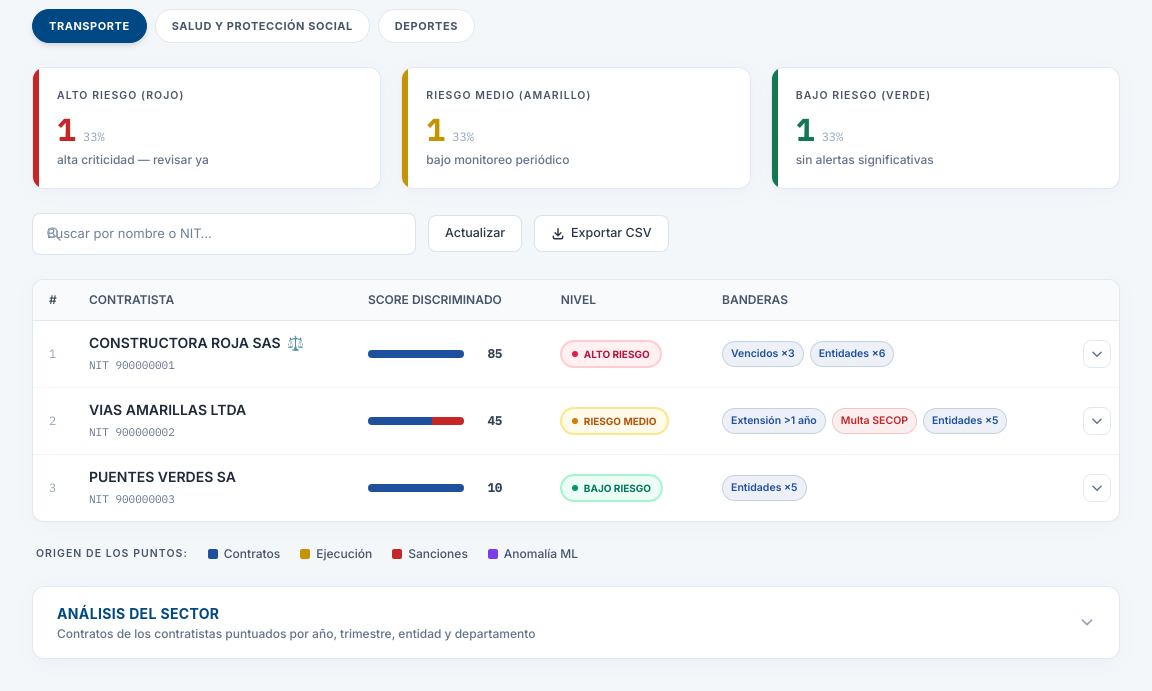
Test: AlertasPage: los scores de la API se muestran correctamente › el panel de análisis dimensional carga año, trimestre, entidades y departamentos
The image size is (1152, 691).
(page scrolled)
Check: the text "CONSTRUCTORA ROJA SAS" is shown, box [89,332,281,352]
Click the text "Análisis del sector": (138, 613) [57,604,219,622]
(page scrolled)
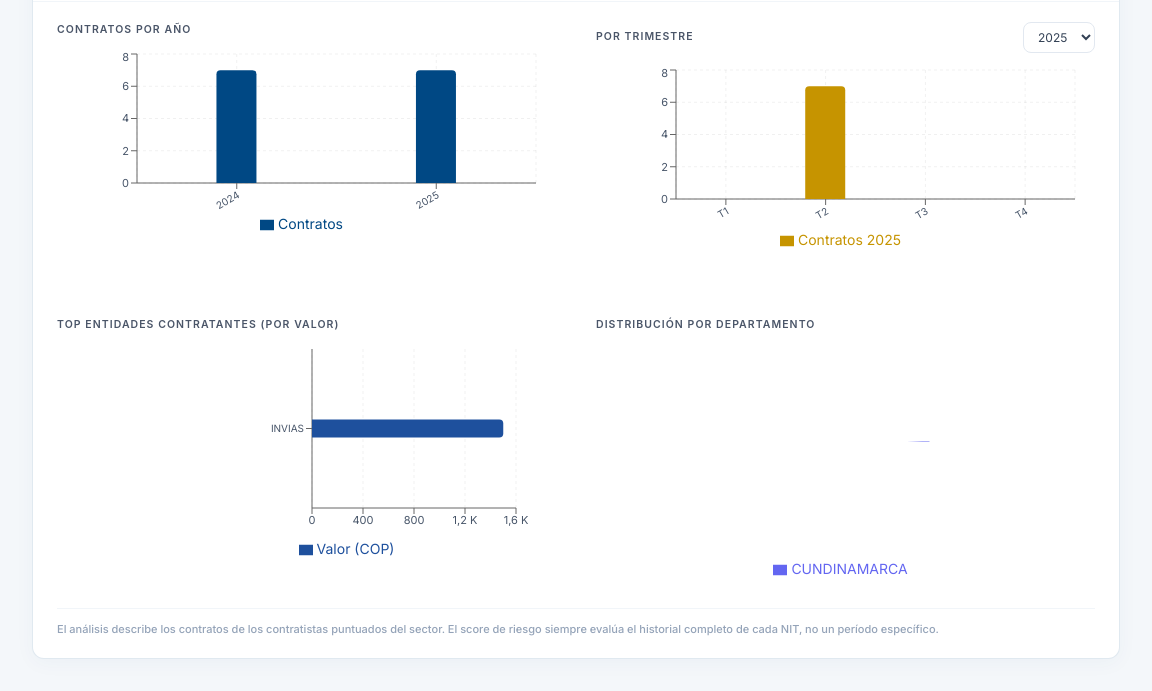
Check: the text "Contratos por año" is shown, box [57,22,191,36]
Check: the text "Por trimestre" is shown, box [596,29,694,45]
Check: the text "Top entidades contratantes (por valor)" is shown, box [57,318,339,330]
